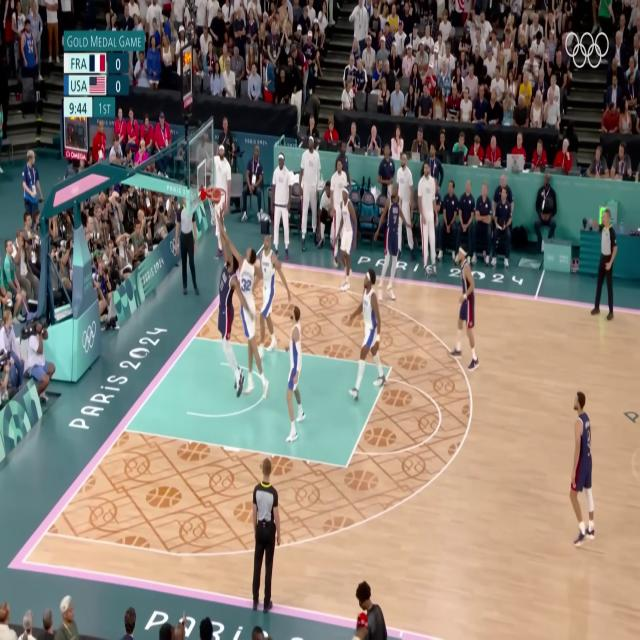ball-handler: (210, 184, 262, 393), (206, 185, 240, 387)
player: (558, 381, 603, 551), (449, 243, 483, 368), (256, 213, 288, 341), (288, 306, 308, 450), (383, 191, 404, 305), (339, 188, 360, 299)
